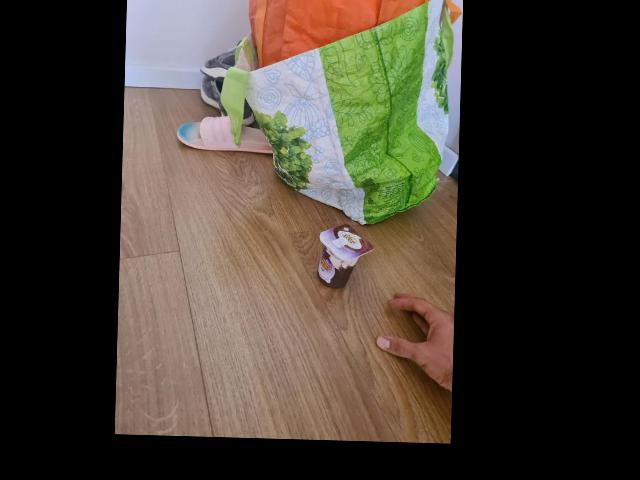milky: (314, 223, 372, 291)
